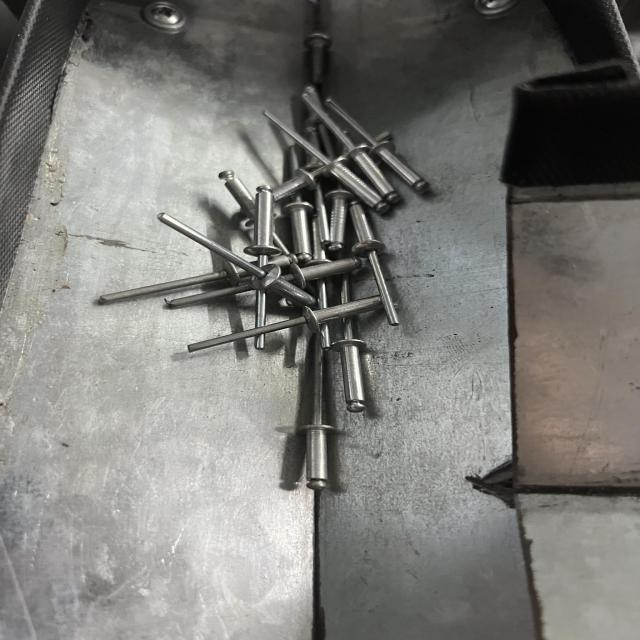rivet: (255, 92, 438, 215), (152, 210, 321, 308), (190, 298, 382, 360)
